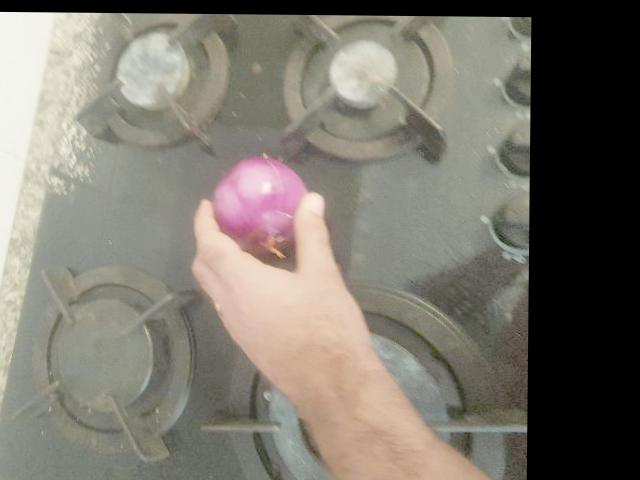onion: (28, 72, 127, 170)
